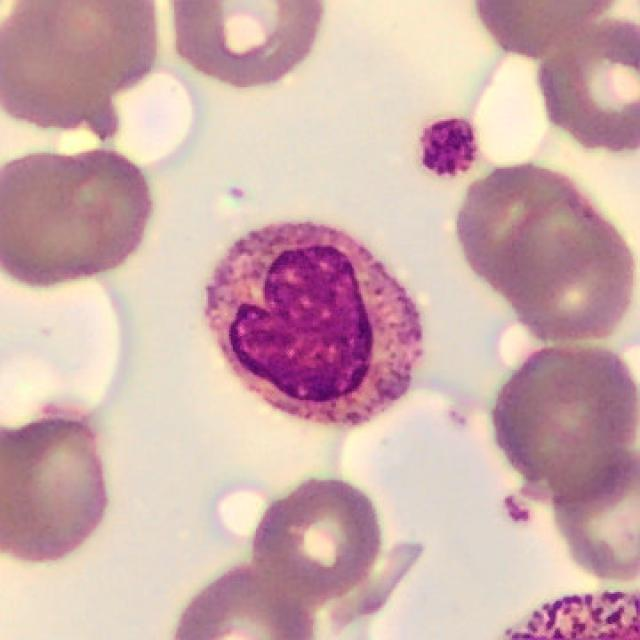Metamielocito: (203, 220, 425, 428)
